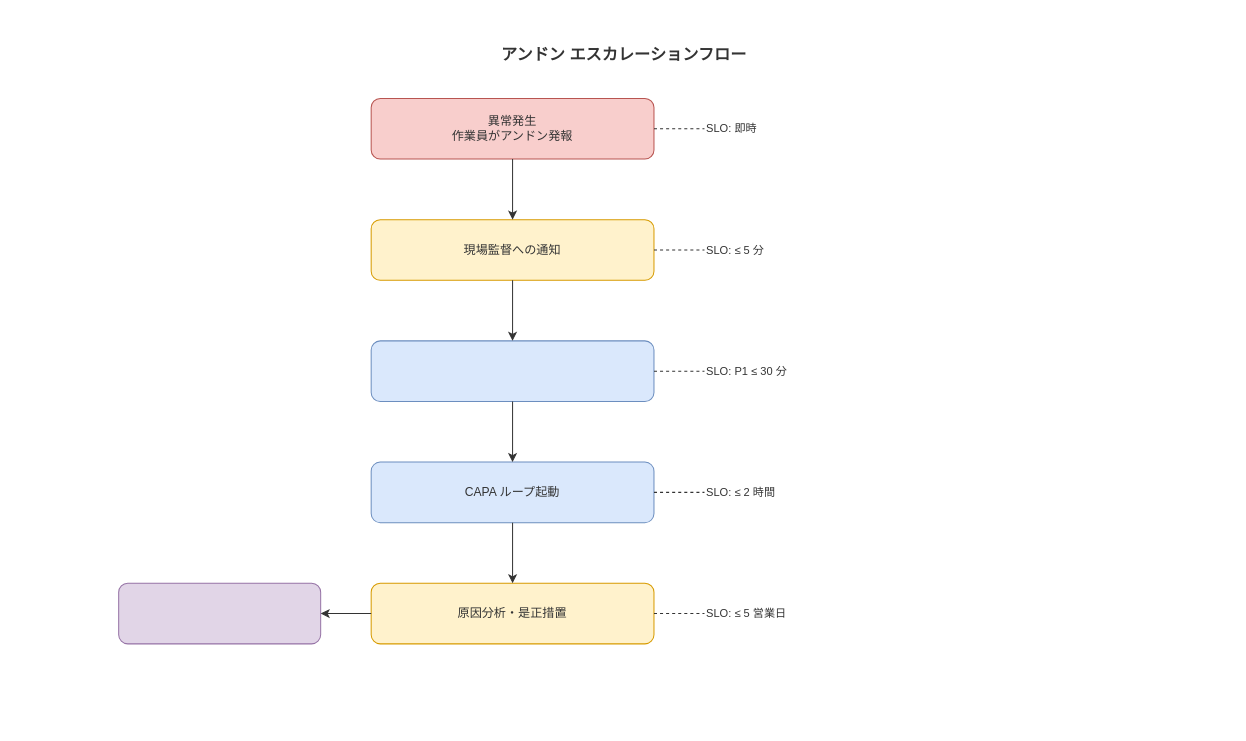
This 1246x741 diagram has some shape labels left out. Here are the shapes that lost their labels. From the top down, the centre of each, then its label:
the point at 512,370: 品質担当へのエスカレーション
the point at 219,613: SOP改訂・水平展開
